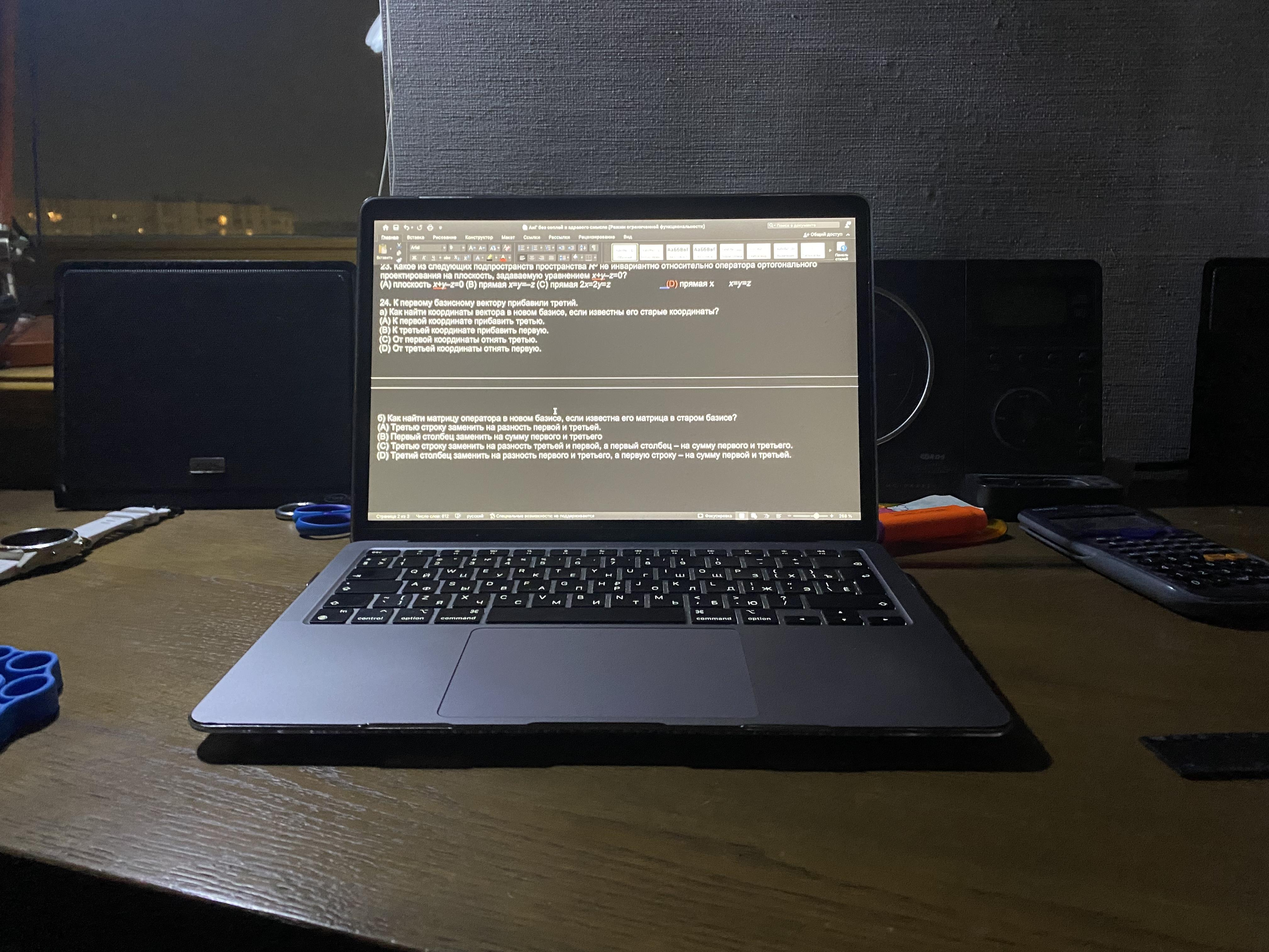monitor: (357, 186, 875, 546)
